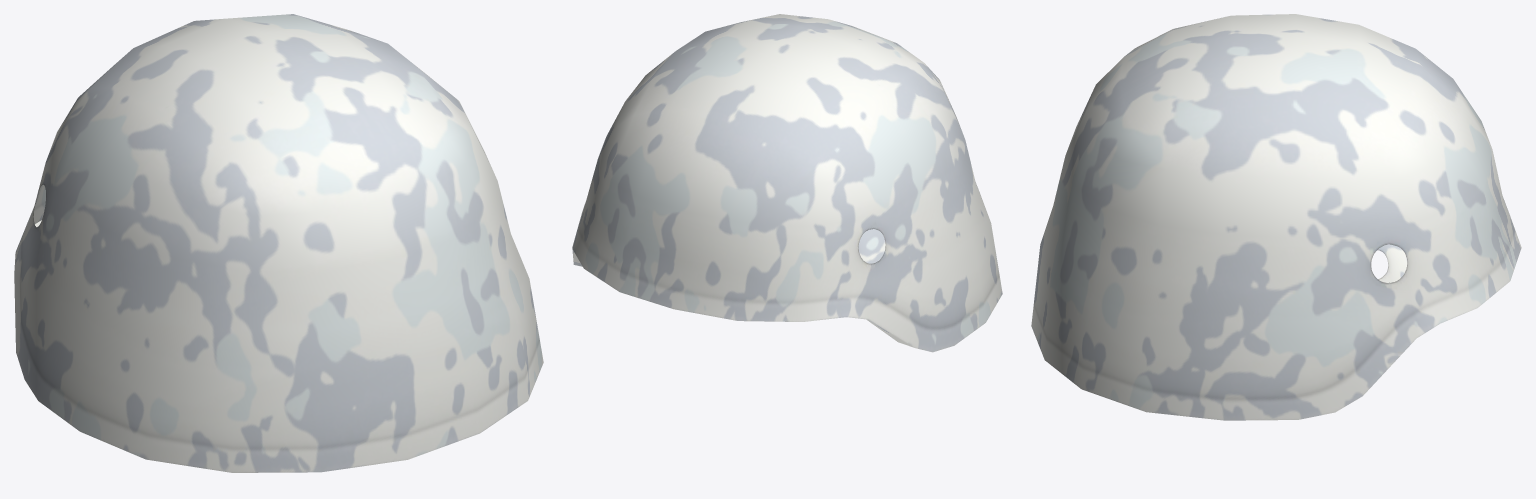
Rendered from IG_Helmat_Lv2-2_Snow.fbx.
The picture shows the model from 3 angles, left to right: view 1: azimuth 30°, elevation 25°; view 2: azimuth 150°, elevation 25°; view 3: azimuth 270°, elevation 25°; orthographic projection. The views are drawn at different scales.
Parts seen in each view (by area): view 1: DUNTAR_Snow; view 2: DUNTAR_Snow; view 3: DUNTAR_Snow.
Part boxes in pixels (x1,y1,x2,y2): DUNTAR_Snow: [14, 14, 543, 472]; DUNTAR_Snow: [572, 14, 1002, 352]; DUNTAR_Snow: [1031, 14, 1521, 420].
Size of the model in its own units: 0.5872 by 0.5781 by 0.6126.
